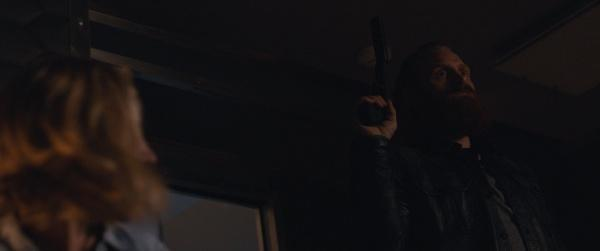Gun: (359, 16, 393, 127)
